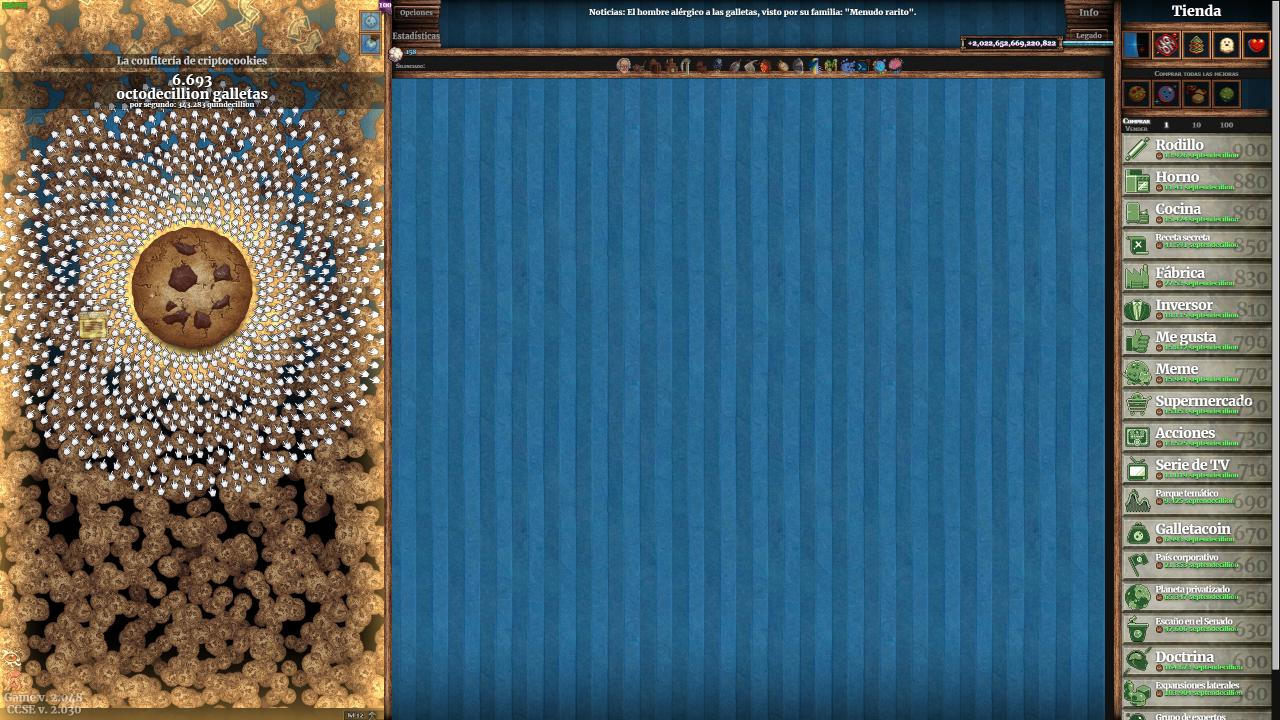GoldenCartridge: (78, 307, 110, 342)
